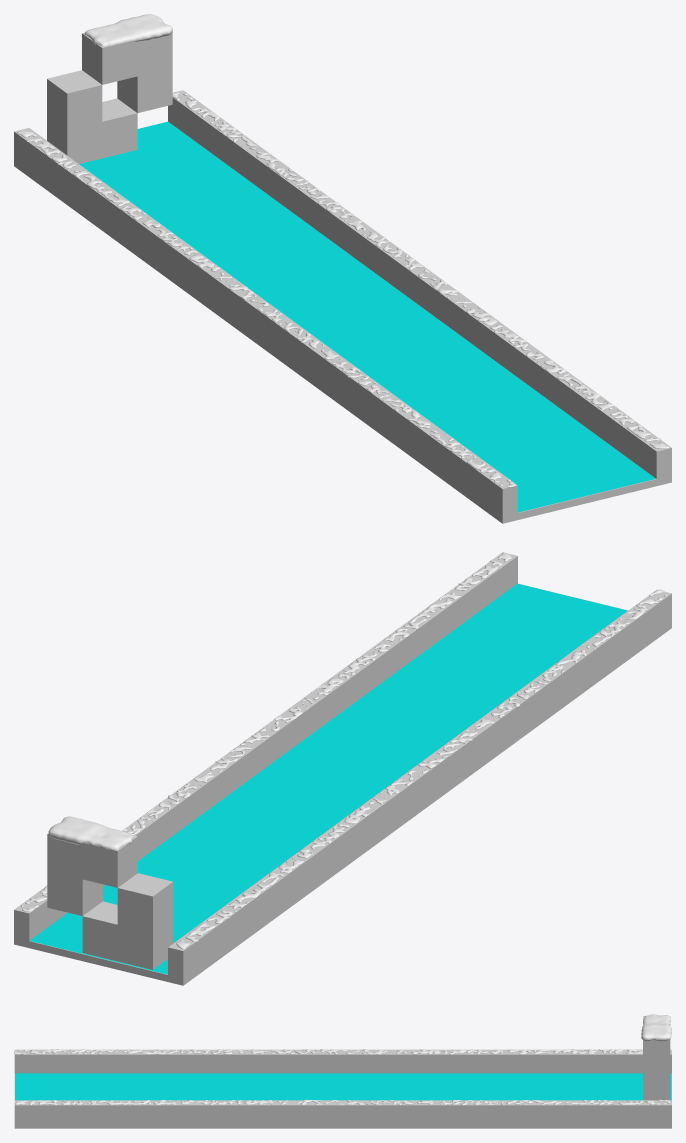
File: Map159.fbx
3 views of the same model, one above another, from view 1: azimuth 30°, elevation 25°; view 2: azimuth 150°, elevation 25°; view 3: azimuth 270°, elevation 25° (orthographic). The views are drawn at different scales.
Visible parts, largest first — view 1: Plane.001, Cube.001, Cube.002, SnowBall.002, SnowBall.003, SnowBall.001; view 2: Plane.001, Cube.001, Cube.002, SnowBall.003, SnowBall.002, SnowBall.001; view 3: Cube.001, Plane.001, SnowBall.002, SnowBall.003, Cube.002, SnowBall.001.
Part boxes in pixels (x1,y1,x2,y2): Plane.001: (79,121,655,512); Cube.001: (14,90,671,523); Cube.002: (47,32,172,163); SnowBall.002: (172,92,669,448); SnowBall.003: (17,131,516,487); SnowBall.001: (84,14,172,46); Plane.001: (30,583,627,974); Cube.001: (14,552,671,985); Cube.002: (47,833,173,969); SnowBall.003: (176,589,666,949); SnowBall.002: (21,552,511,911); SnowBall.001: (48,816,133,850); Cube.001: (14,1049,671,1128); Plane.001: (15,1073,671,1100); SnowBall.002: (15,1099,670,1105); SnowBall.003: (14,1049,642,1054); Cube.002: (643,1016,670,1100); SnowBall.001: (641,1014,671,1041).
Bounding box in the file's own units: 244 × 166 × 1204.
